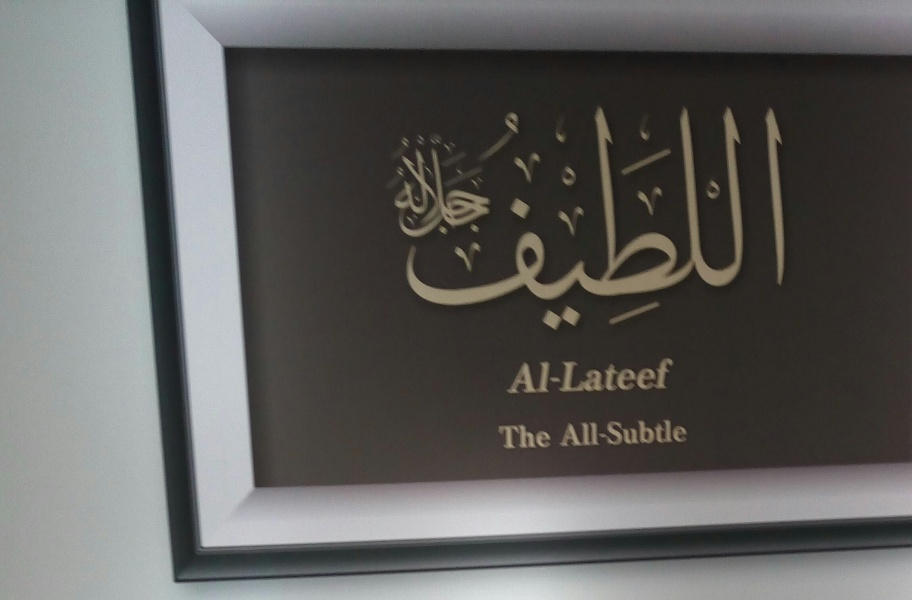text: (385, 99, 400, 337), (401, 99, 416, 337), (417, 99, 432, 337), (433, 99, 448, 337), (449, 99, 464, 337), (465, 99, 480, 337), (481, 99, 496, 337), (497, 99, 512, 337), (513, 99, 528, 337), (529, 99, 544, 337), (545, 99, 560, 337), (561, 99, 576, 337), (577, 99, 592, 337), (593, 99, 608, 337), (609, 99, 624, 337), (625, 99, 640, 337), (641, 99, 656, 337), (657, 99, 672, 337), (673, 99, 688, 337), (689, 99, 704, 337), (705, 99, 720, 337), (721, 99, 736, 337), (737, 99, 752, 337), (753, 99, 768, 337), (769, 99, 784, 337), (377, 99, 384, 337), (401, 134, 416, 241), (417, 134, 432, 241), (433, 134, 448, 241), (449, 134, 464, 241), (465, 134, 480, 241), (481, 134, 494, 241), (388, 134, 400, 241), (785, 99, 789, 337), (529, 355, 544, 395), (545, 355, 560, 395), (561, 355, 576, 395), (577, 355, 592, 395), (593, 355, 608, 395), (609, 355, 624, 395), (625, 355, 640, 395), (641, 355, 656, 395), (657, 355, 672, 395), (673, 416, 689, 448), (577, 416, 592, 448), (593, 416, 608, 448), (609, 416, 624, 448), (625, 416, 640, 448), (641, 416, 656, 448), (657, 416, 672, 448), (564, 416, 576, 448), (513, 425, 528, 450), (529, 425, 544, 450), (498, 425, 512, 450), (521, 355, 528, 395), (673, 355, 678, 395), (545, 425, 552, 450)
